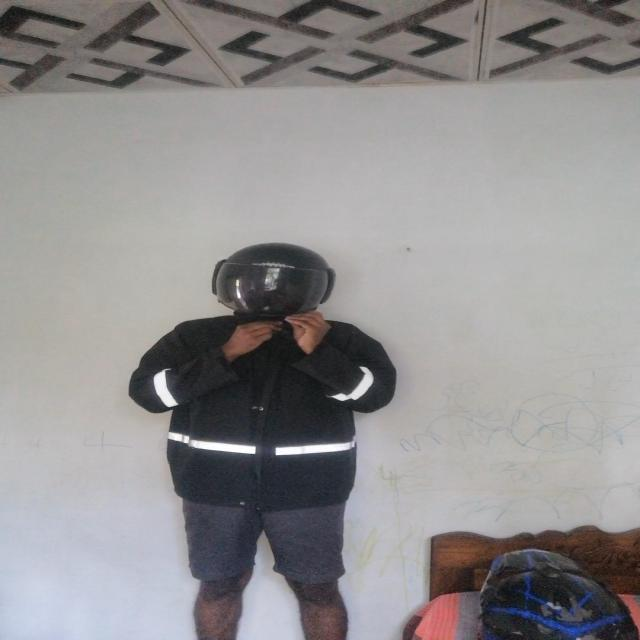Helmet_Wearer: (213, 236, 341, 327)
Jacket_Wearer: (134, 308, 402, 504)
Person: (126, 246, 409, 640)
